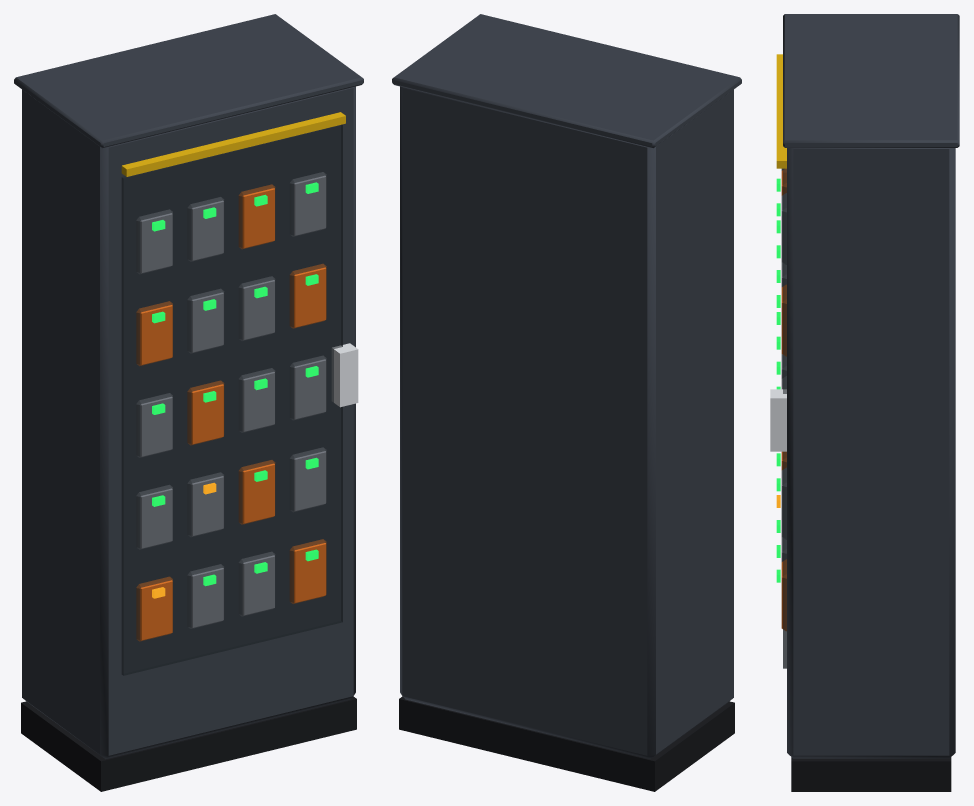
File: junction_relay_cabinet.glb
The picture shows the model from 3 angles, left to right: view 1: azimuth 30°, elevation 25°; view 2: azimuth 150°, elevation 25°; view 3: azimuth 270°, elevation 25°; orthographic projection.
Parts seen in each view (by area): view 1: junction_relay_cabinet; view 2: junction_relay_cabinet; view 3: junction_relay_cabinet.
Boxes of the visible parts, box(x1,y1,x2,y2) form: junction_relay_cabinet: box(14, 14, 363, 791); junction_relay_cabinet: box(392, 14, 741, 791); junction_relay_cabinet: box(770, 14, 959, 791).
Bounding box in the file's own units: 0.72 × 1.71 × 0.45.
